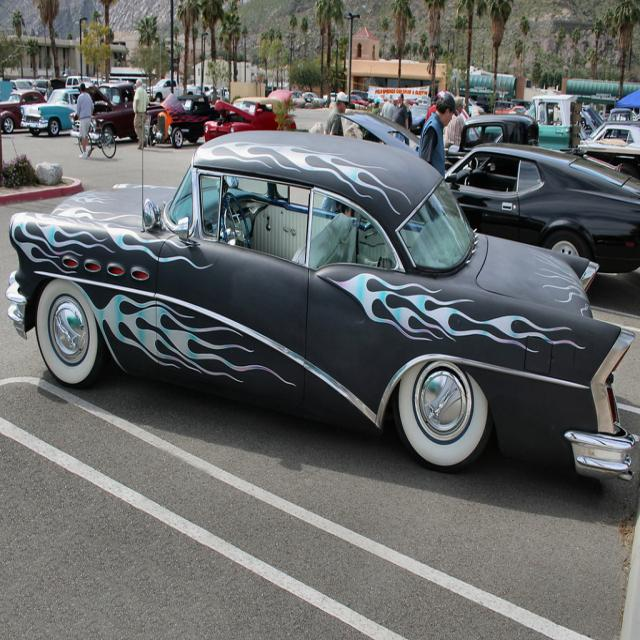car: (5, 130, 637, 478)
